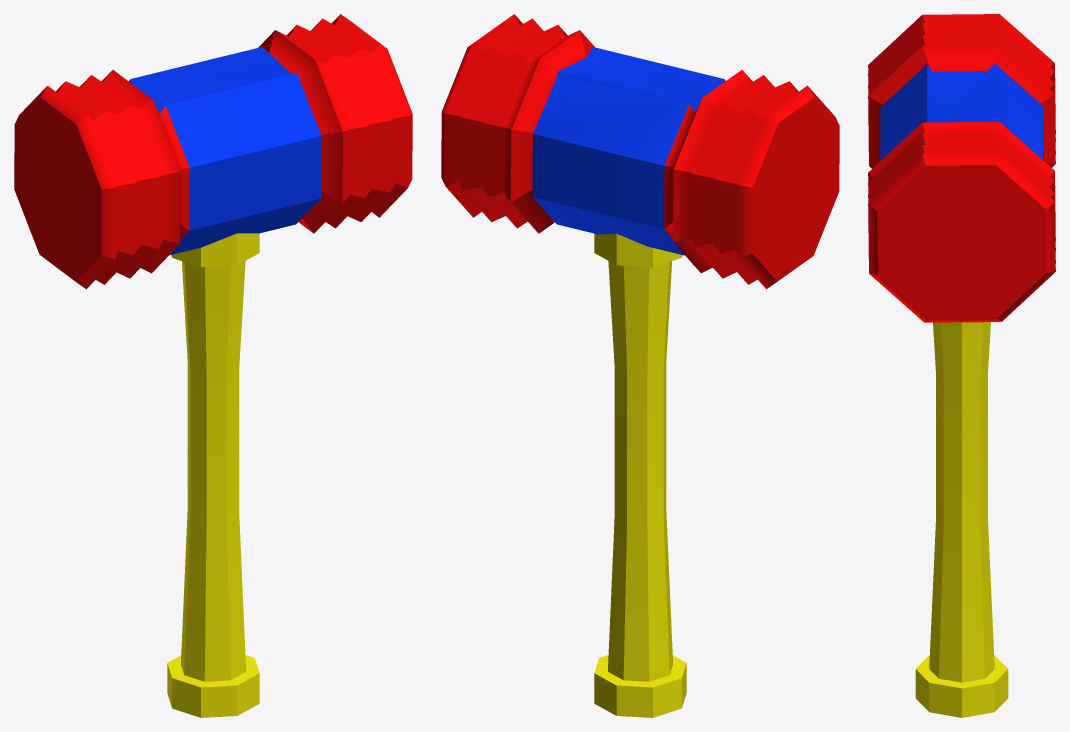
The model's file is Squeaky Hammer.fbx.
3 renders of one model, left to right at view 1: azimuth 30°, elevation 25°; view 2: azimuth 150°, elevation 25°; view 3: azimuth 270°, elevation 25°, orthographic. The views are drawn at different scales.
Parts seen in each view (by area): view 1: pCylinder3; view 2: pCylinder3; view 3: pCylinder3.
Part boxes in pixels (box(x1,y1,x2,y2)): pCylinder3: box(14, 14, 412, 717); pCylinder3: box(441, 14, 839, 717); pCylinder3: box(868, 14, 1055, 717).
Size of the model in its own units: 9.33 by 18.2 by 5.03.
